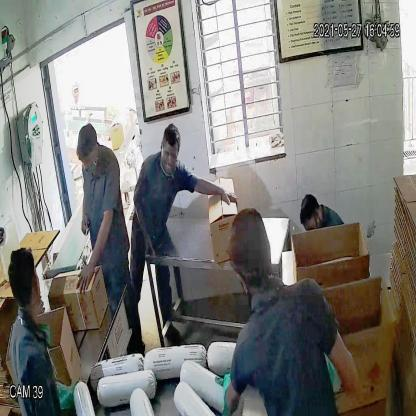no_goggles: (159, 144, 181, 167)
